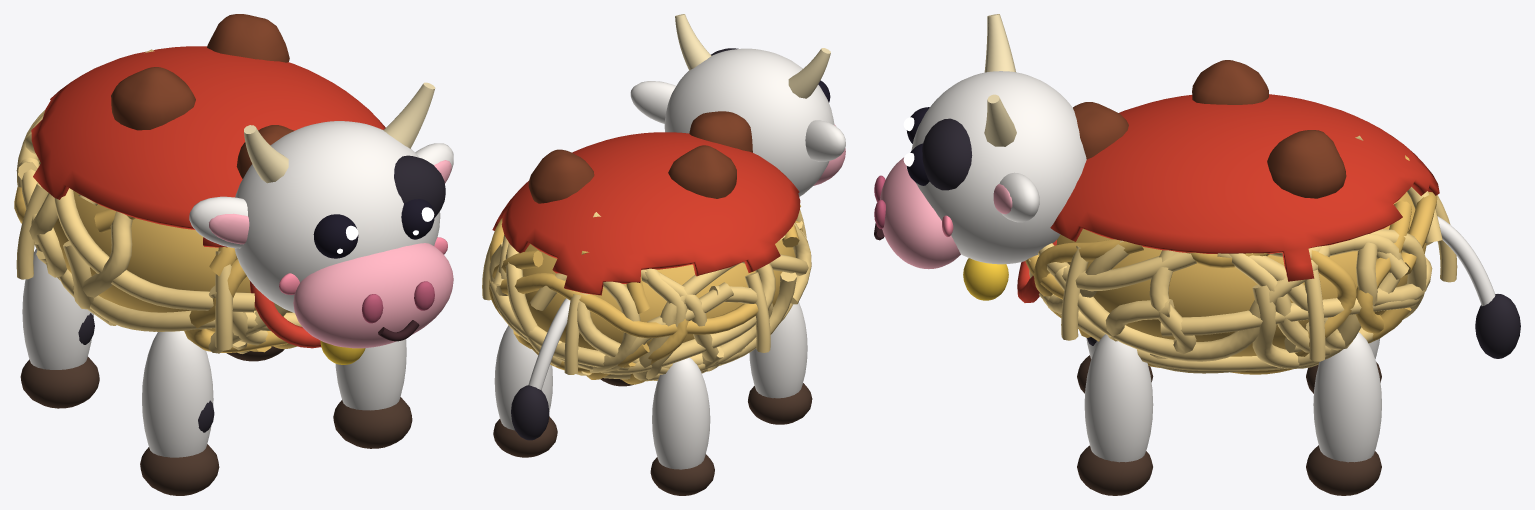
File: pilot_ku_spagetti.glb
3 views of the same model, side by side, from view 1: azimuth 30°, elevation 25°; view 2: azimuth 150°, elevation 25°; view 3: azimuth 270°, elevation 25° (orthographic). The views are drawn at different scales.
Visible parts, largest first — view 1: kropp, hode, bein_vf, bein_vb, bein_hf; view 2: kropp, hode, bein_vb, bein_vf, bein_hb, hale; view 3: kropp, hode, bein_hf, bein_hb, hale.
Part boxes in pixels (x1,y1,x2,y2): kropp: [14, 14, 385, 353]; hode: [189, 82, 453, 364]; bein_vf: [140, 331, 219, 495]; bein_vb: [20, 248, 99, 408]; bein_hf: [333, 339, 412, 448]; kropp: [482, 111, 811, 384]; hode: [630, 14, 845, 196]; bein_vb: [650, 357, 714, 495]; bein_vf: [748, 302, 812, 424]; bein_hb: [493, 325, 557, 457]; hale: [511, 298, 570, 440]; kropp: [1025, 60, 1457, 374]; hode: [874, 14, 1086, 302]; bein_hf: [1077, 334, 1153, 495]; bein_hb: [1306, 332, 1381, 495]; hale: [1437, 216, 1520, 358].
Size of the model in its own units: 0.9742 by 1.13 by 1.7.
